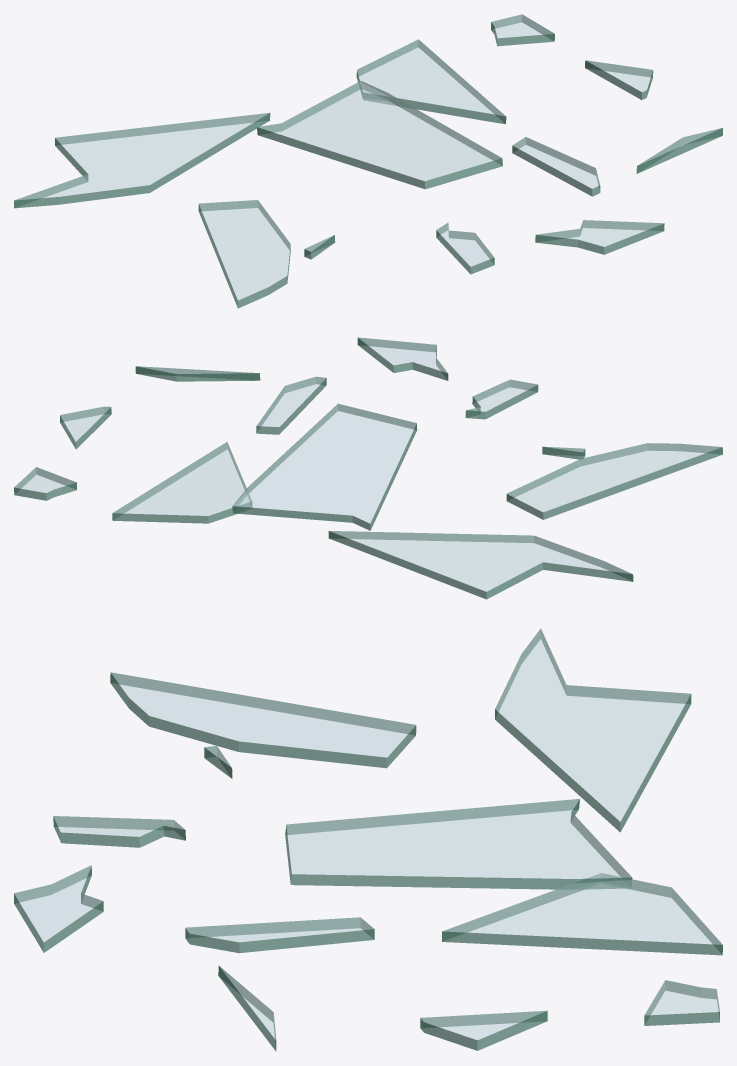
File: broken_glass.glb
3 views of the same model, one above another, from view 1: azimuth 30°, elevation 25°; view 2: azimuth 150°, elevation 25°; view 3: azimuth 270°, elevation 25° (orthographic). The views are drawn at different scales.
Visible parts, largest first — view 1: broken_glass; view 2: broken_glass; view 3: broken_glass.
Boxes of the visible parts, left/top/right/bottom form: broken_glass: left=14, top=14, right=722, bottom=308; broken_glass: left=14, top=337, right=722, bottom=599; broken_glass: left=14, top=628, right=722, bottom=1051.
Bounding box in the file's own units: 0.3 × 0.012 × 0.22.
